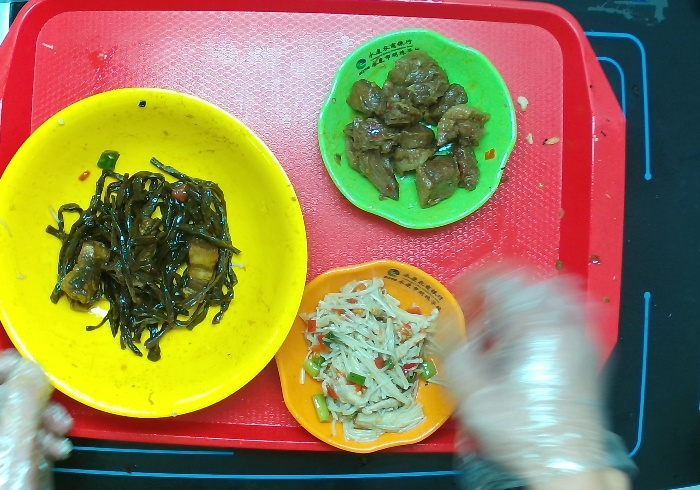YKMZ-Huang_Se_Tang_Wan: (1, 82, 311, 422)
YKMZ-Ju_Se_Ao_Bian_Wan: (270, 256, 477, 464)
YKMZ-Lv_Se_Ao_Bian_Wan: (311, 24, 520, 233)
